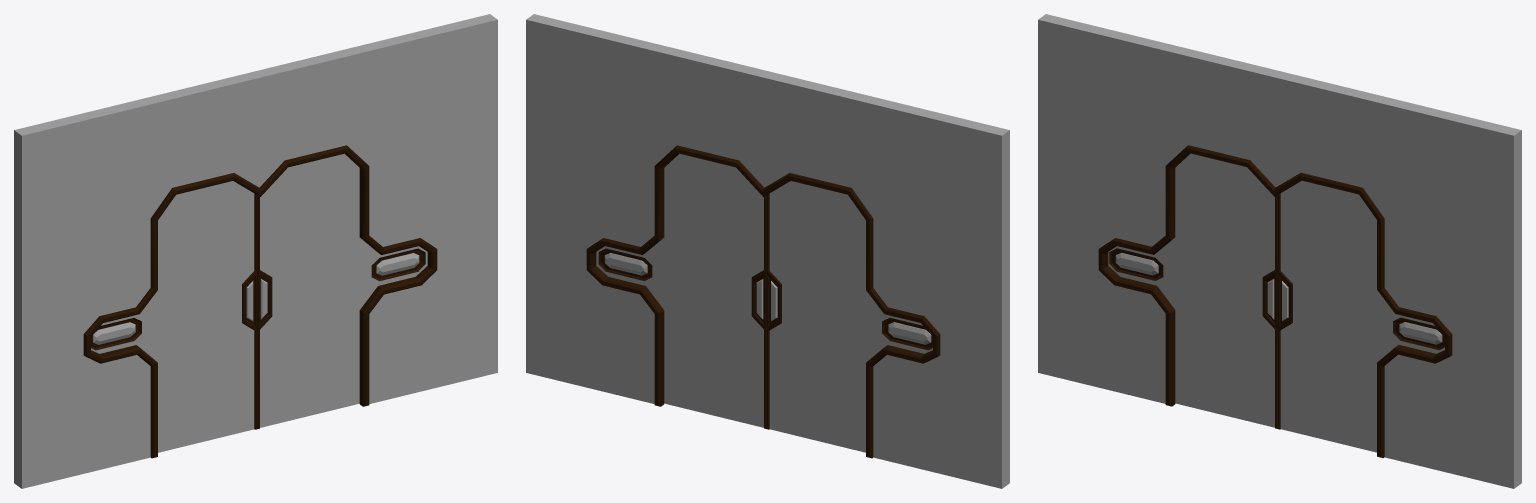
File: Lost Robot Door.fbx
3 renders of one model, left to right at view 1: azimuth 30°, elevation 25°; view 2: azimuth 150°, elevation 25°; view 3: azimuth 330°, elevation 25°, orthographic.
Visible parts, largest first — view 1: Doorframe, Door2, Door1; view 2: Doorframe, Door2, Door1; view 3: Doorframe, Door1, Door2.
Boxes of the visible parts, x1,y1,x2,y2 form: Doorframe: (14,14,497,488); Door2: (257,153,427,428); Door1: (91,181,257,452); Doorframe: (526,14,1009,488); Door2: (596,153,766,428); Door1: (766,181,932,452); Doorframe: (1038,14,1521,488); Door1: (1108,153,1277,428); Door2: (1277,180,1444,452).
Bounding box in the file's own units: 11.62 × 8.24 × 0.5045.
